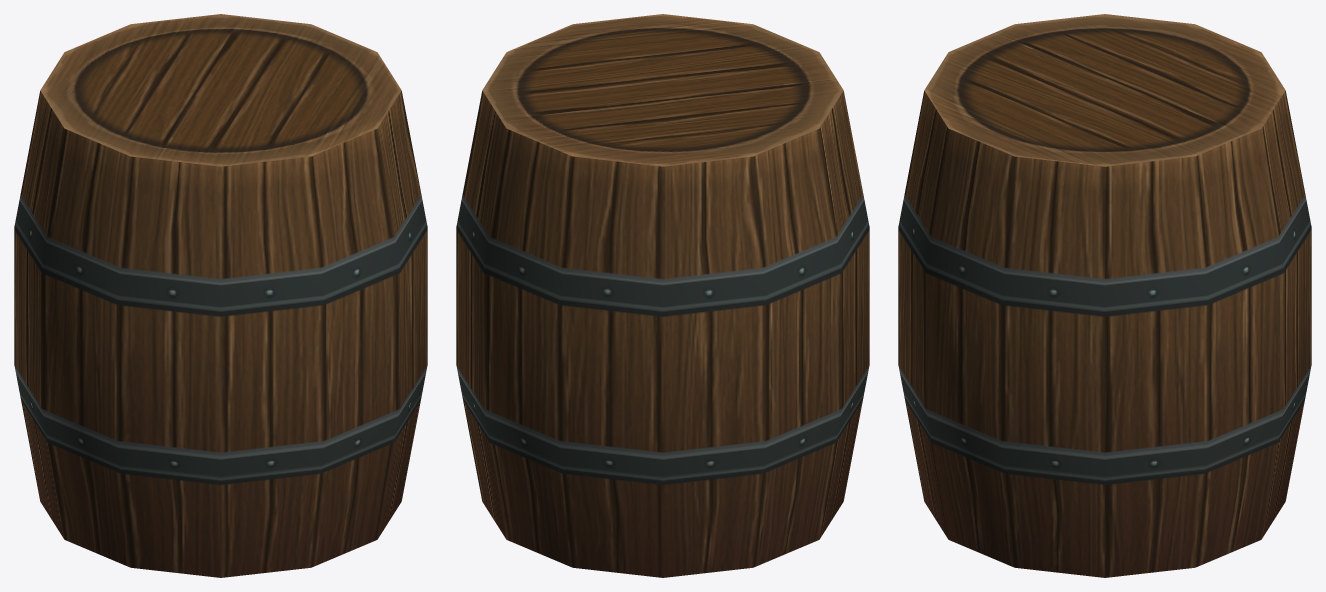
Rendered from decor_barrel_01.fbx.
3 renders of one model, left to right at view 1: azimuth 30°, elevation 25°; view 2: azimuth 150°, elevation 25°; view 3: azimuth 270°, elevation 25°, orthographic.
Parts seen in each view (by area): view 1: decor_barrel_01; view 2: decor_barrel_01; view 3: decor_barrel_01.
Boxes of the visible parts, bbox=[...] form: decor_barrel_01: bbox=[14, 14, 427, 577]; decor_barrel_01: bbox=[456, 14, 869, 577]; decor_barrel_01: bbox=[898, 14, 1311, 577].
Bounding box in the file's own units: 105 × 115 × 105.
